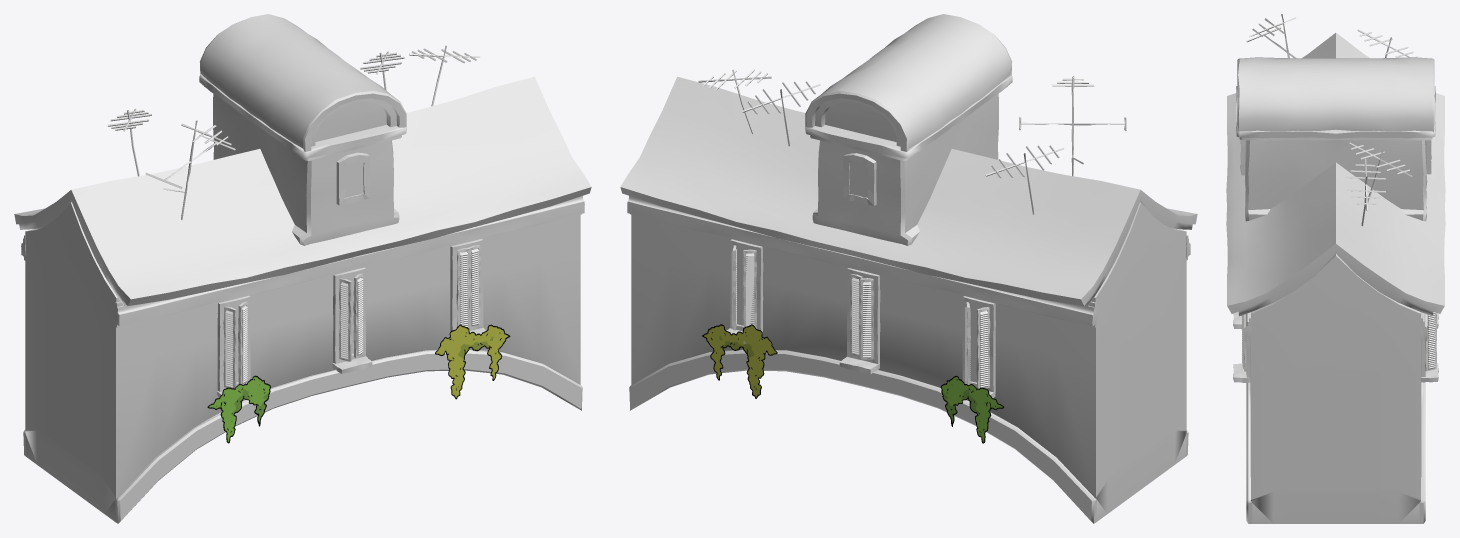
Rendered from Arc_01.fbx.
3 renders of one model, left to right at view 1: azimuth 30°, elevation 25°; view 2: azimuth 150°, elevation 25°; view 3: azimuth 270°, elevation 25°, orthographic. The views are drawn at different scales.
Visible parts, largest first — view 1: Cube.033, Cube.035, Cylinder.009, Cube.048, Cube.050, Cube.049, Plane.077, Plane.076, Cube.113, Plane.034, Plane.036, Plane.061 (+7 smaller); view 2: Cube.033, Cube.035, Cylinder.009, Cube.048, Cube.056, Cube.057, Plane.079, Plane.078, Cube.114, Plane.072, Plane.073, Plane.069 (+5 smaller); view 3: Cube.033, Cube.035, Cylinder.009, Cube.048, Plane.065, Plane.094, Plane.092, Plane.080, Plane.090.
Part boxes in pixels (<box>): Cube.033: <box>23,202,582,523</box>; Cube.035: <box>14,76,591,305</box>; Cylinder.009: <box>200,14,406,151</box>; Cube.048: <box>199,75,406,245</box>; Cube.050: <box>115,258,352,327</box>; Cube.049: <box>349,196,584,270</box>; Plane.077: <box>435,324,510,399</box>; Plane.076: <box>207,375,270,443</box>; Cube.113: <box>336,152,370,205</box>; Plane.034: <box>450,239,483,331</box>; Plane.036: <box>333,267,366,363</box>; Plane.061: <box>223,306,236,388</box>; Cube.033: <box>629,202,1188,523</box>; Cube.035: <box>620,76,1197,305</box>; Cylinder.009: <box>805,14,1011,151</box>; Cube.048: <box>805,75,1012,245</box>; Cube.056: <box>859,258,1096,327</box>; Cube.057: <box>627,196,862,270</box>; Plane.079: <box>702,324,777,398</box>; Plane.078: <box>940,375,1004,443</box>; Cube.114: <box>843,153,876,205</box>; Plane.072: <box>847,268,880,363</box>; Plane.073: <box>860,278,874,359</box>; Plane.069: <box>976,307,990,388</box>; Cube.033: <box>1246,254,1425,523</box>; Cube.035: <box>1226,33,1445,316</box>; Cylinder.009: <box>1237,57,1434,132</box>; Cube.048: <box>1236,86,1435,221</box>; Plane.065: <box>1425,311,1436,371</box>; Plane.094: <box>1346,158,1385,226</box>; Plane.092: <box>1349,142,1412,209</box>; Plane.080: <box>1246,14,1296,58</box>; Plane.090: <box>1357,29,1418,57</box>.
Bounding box in the file's own units: 601 × 466 × 262.
